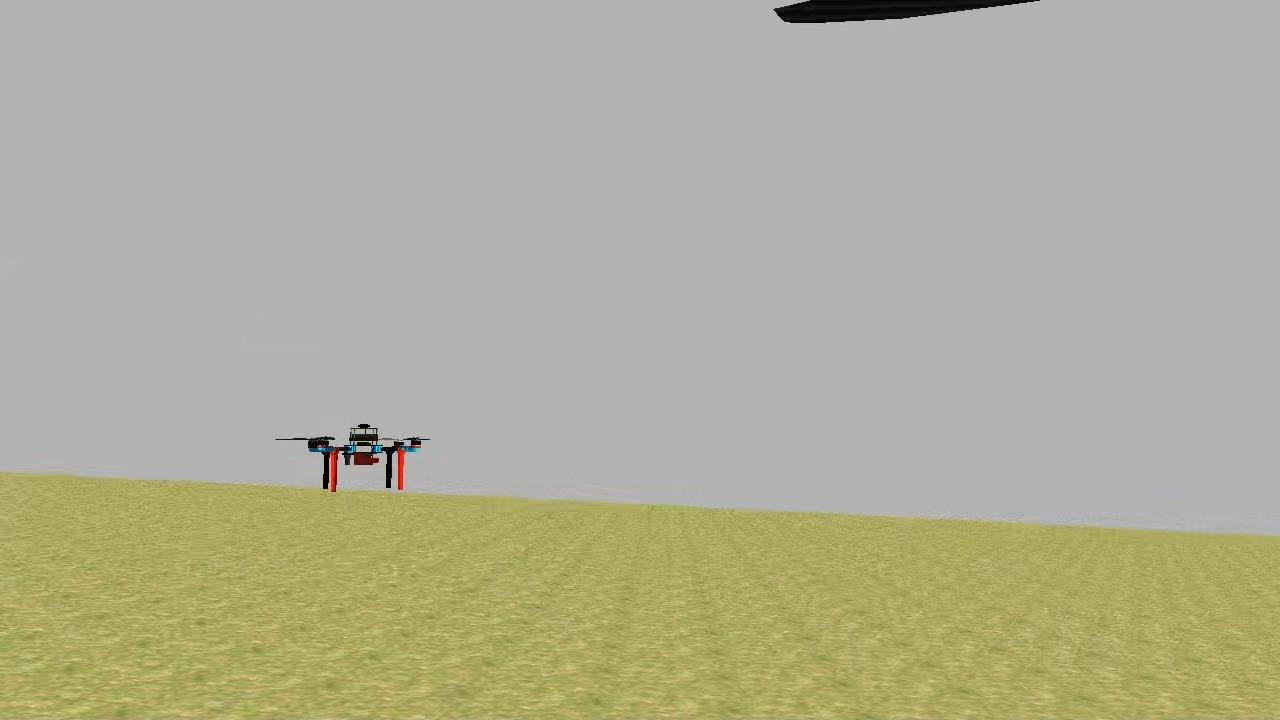UAV: (306, 418, 430, 492)
